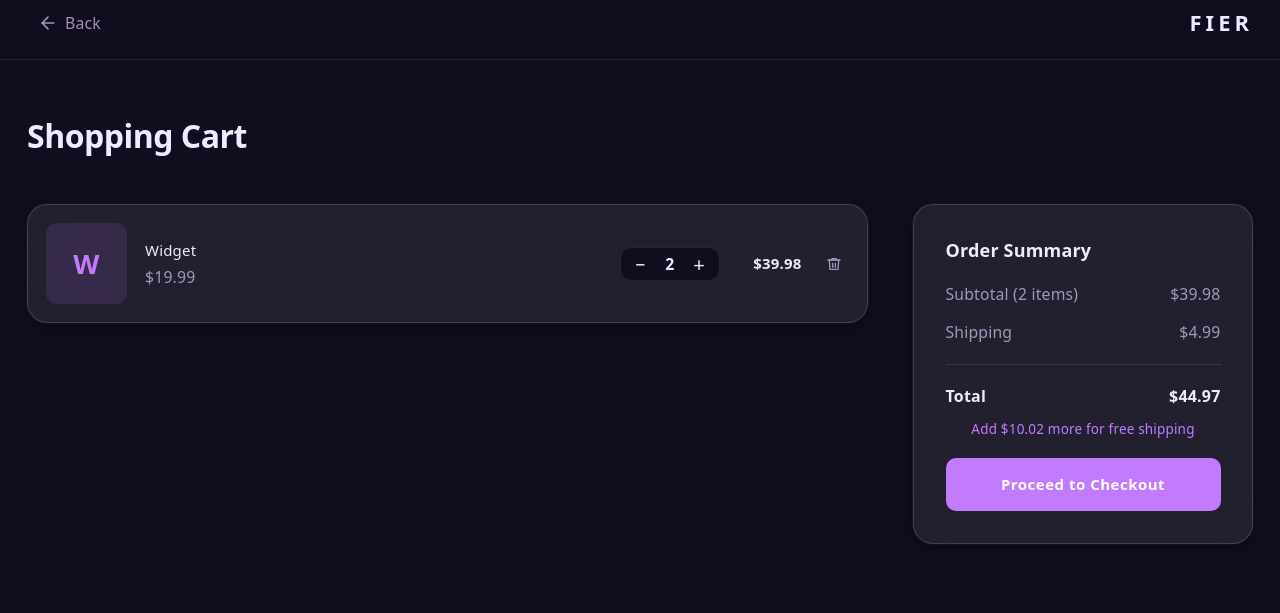
Test case: CartPage › shows generic error message on failed reserve without unavailable list
Click the button "Proceed to Checkout" at [1083, 485], box [946, 458, 1220, 512]
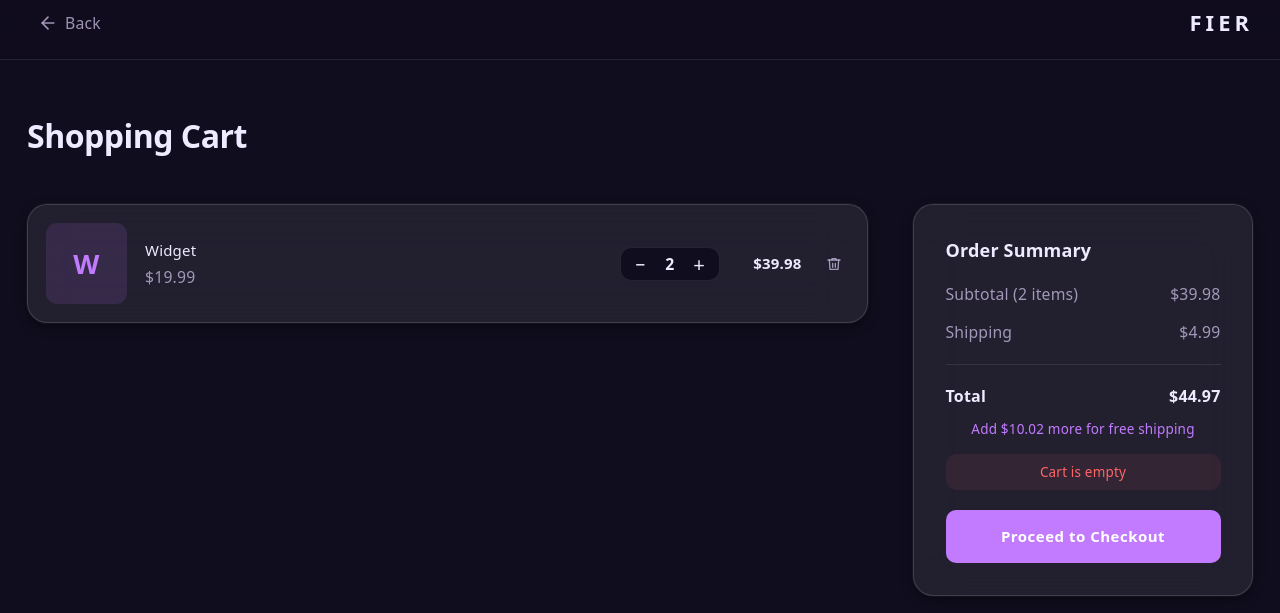
Now the text "Cart is empty" is shown, box [946, 454, 1220, 490]
